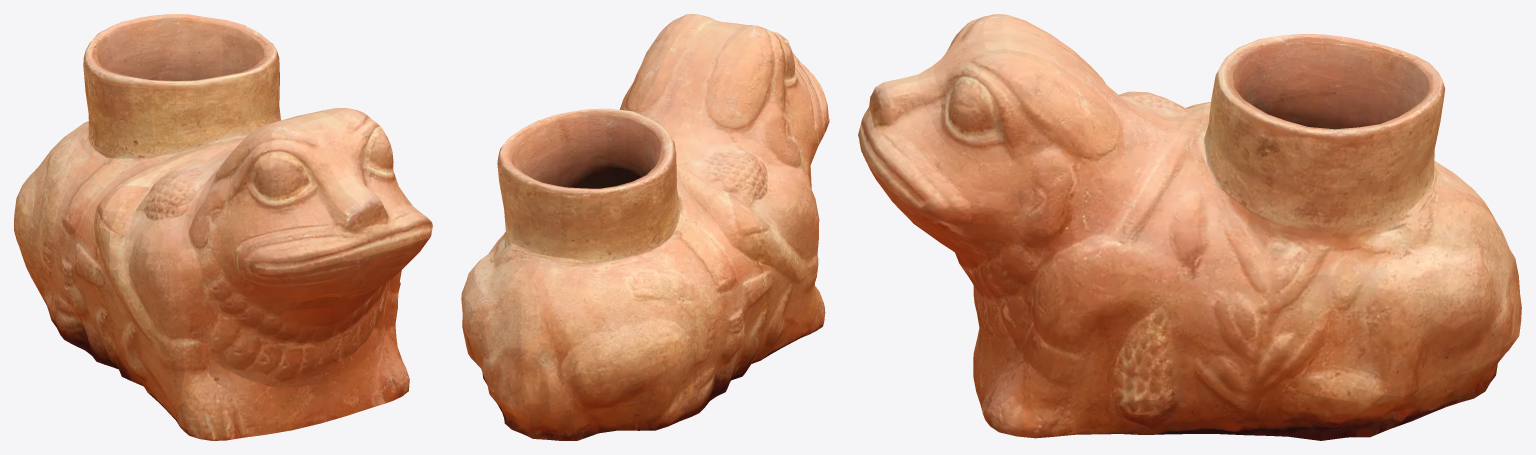
File: preview.glb
The picture shows the model from 3 angles, left to right: view 1: azimuth 30°, elevation 25°; view 2: azimuth 150°, elevation 25°; view 3: azimuth 270°, elevation 25°; orthographic projection. The views are drawn at different scales.
Parts seen in each view (by area): view 1: Box001_02 - Default_0; view 2: Box001_02 - Default_0; view 3: Box001_02 - Default_0.
Part boxes in pixels (left/top/right/bottom): Box001_02 - Default_0: left=14, top=14, right=432, bottom=440; Box001_02 - Default_0: left=461, top=14, right=829, bottom=440; Box001_02 - Default_0: left=858, top=14, right=1521, bottom=440.
Size of the model in its own units: 71.01 by 76.94 by 134.
Materials: 1 (1 with a texture image).
